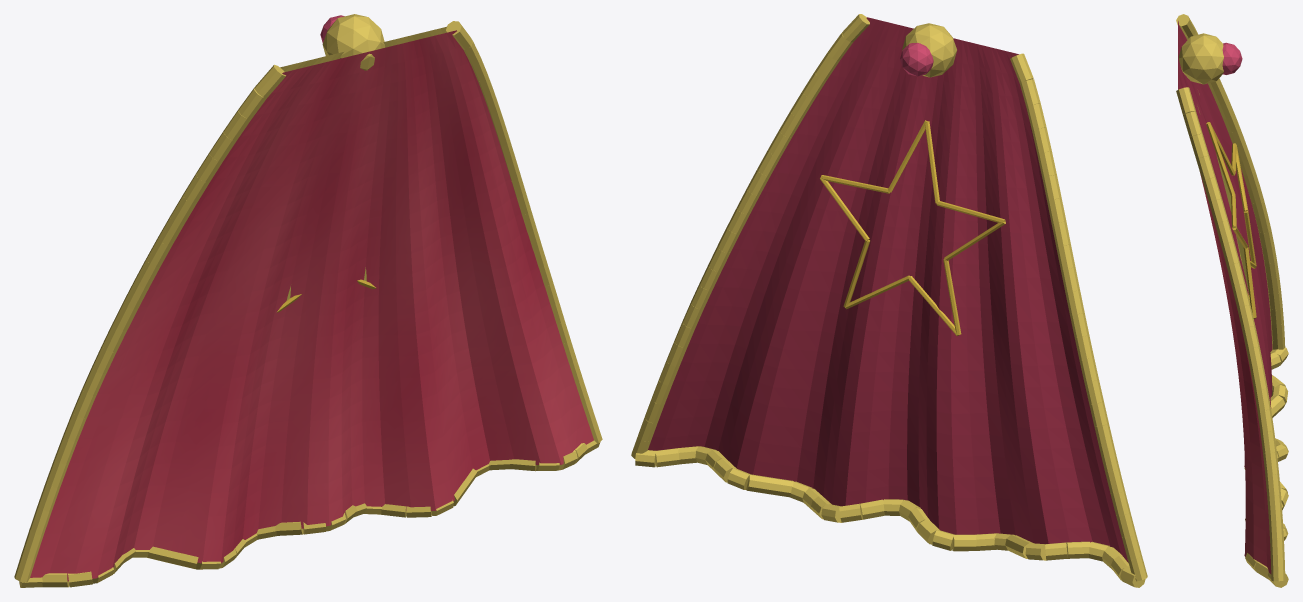
Rendered from Vietnam_Flag_Cape.glb.
3 renders of one model, left to right at view 1: azimuth 30°, elevation 25°; view 2: azimuth 150°, elevation 25°; view 3: azimuth 270°, elevation 25°, orthographic. The views are drawn at different scales.
Visible parts, largest first — view 1: cape_part_0, cape_part_219; view 2: cape_part_1, cape_part_219, cape_part_220; view 3: cape_part_1, cape_part_0, cape_part_219, cape_part_220, cape_part_218, cape_part_215, cape_part_25, cape_part_208, cape_part_26, cape_part_27, cape_part_28, cape_part_29 (+42 smaller).
Boxes of the visible parts, left/top/right/bottom form: cape_part_0: left=30, top=30, right=593, bottom=581; cape_part_219: left=322, top=14, right=385, bottom=70; cape_part_1: left=648, top=17, right=1128, bottom=562; cape_part_219: left=902, top=23, right=956, bottom=77; cape_part_220: left=900, top=42, right=933, bottom=76; cape_part_1: left=1178, top=21, right=1272, bottom=408; cape_part_0: left=1200, top=174, right=1271, bottom=574; cape_part_219: left=1178, top=33, right=1223, bottom=84; cape_part_220: left=1222, top=42, right=1242, bottom=74; cape_part_218: left=1206, top=123, right=1235, bottom=195; cape_part_215: left=1243, top=247, right=1256, bottom=317; cape_part_25: left=1176, top=87, right=1195, bottom=114; cape_part_208: left=1216, top=154, right=1248, bottom=292; cape_part_26: left=1183, top=111, right=1202, bottom=137; cape_part_27: left=1189, top=133, right=1208, bottom=158; cape_part_28: left=1196, top=155, right=1215, bottom=180; cape_part_29: left=1202, top=177, right=1221, bottom=201.
Size of the model in its own units: 1.82 by 1.63 by 0.3716.
